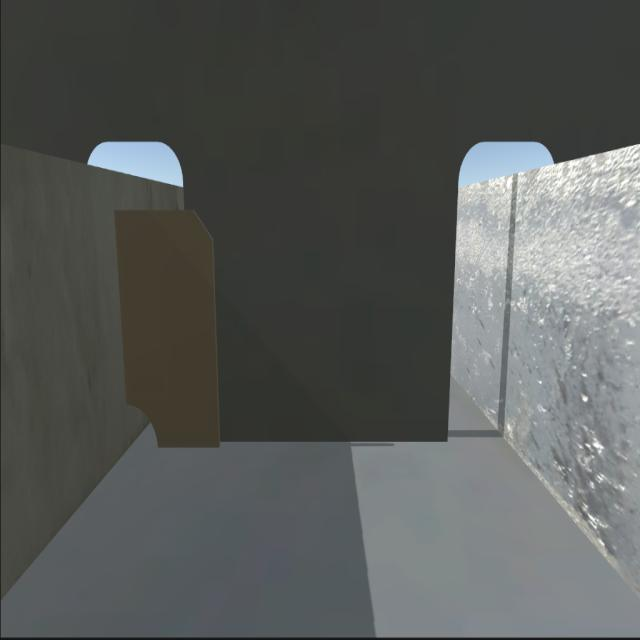fillet_hole: (128, 403, 159, 450)
fillet_yong_jeop_jang: (164, 437, 450, 449)
longi_yong_jeop_jang: (114, 213, 130, 400)
plate_CP03: (117, 200, 226, 448)
